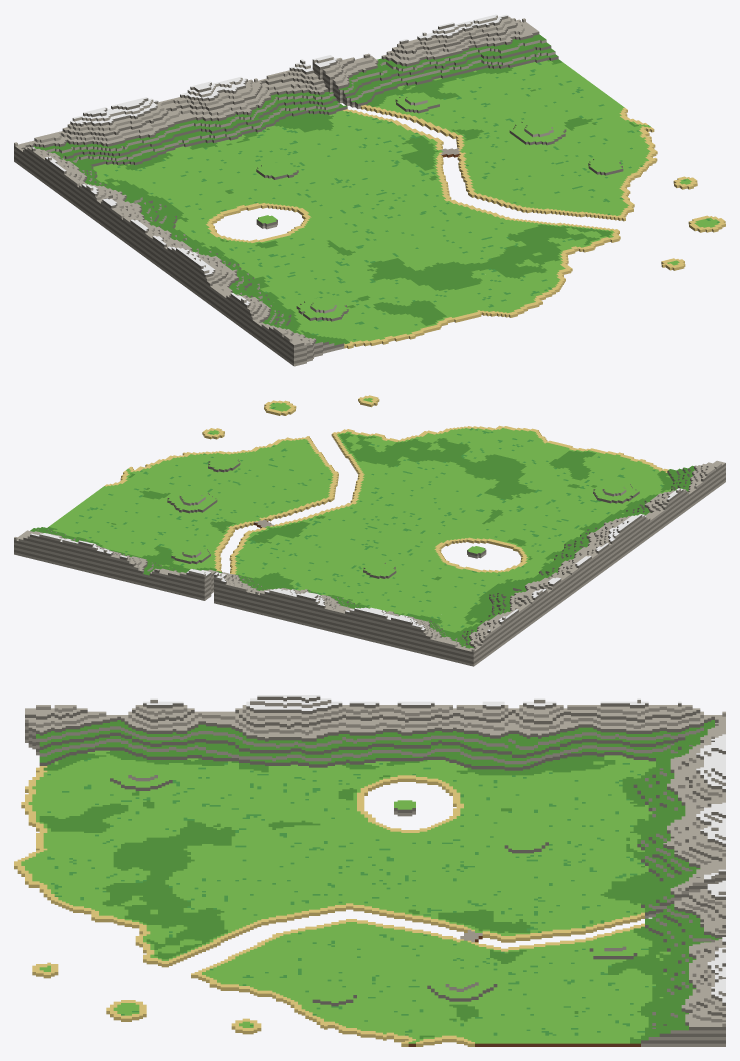
File: Map-2-Ground.fbx
3 views of the same model, one above another, from view 1: azimuth 30°, elevation 25°; view 2: azimuth 150°, elevation 25°; view 3: azimuth 270°, elevation 25° (orthographic). The views are drawn at different scales.
Parts seen in each view (by area): view 1: Map-2-Ground; view 2: Map-2-Ground; view 3: Map-2-Ground.
Boxes of the visible parts, <box> form: Map-2-Ground: <box>14,14,725,366</box>; Map-2-Ground: <box>14,395,725,666</box>; Map-2-Ground: <box>14,695,725,1046</box>.
Size of the model in its own units: 200 by 12 by 193.
